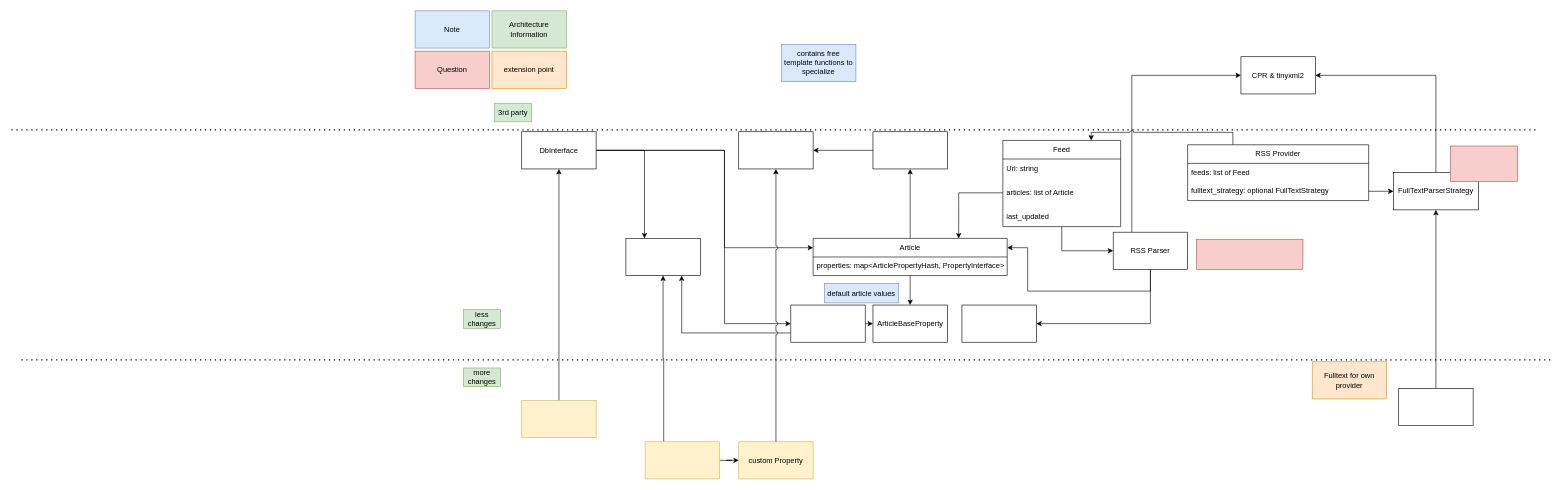
Image size: 1564x490. Some labels were removed from this diagram. Here are the shapes that lost their labels. From the top down, the centre of each, then its label:
At (x=775, y=150): "PropertyInterface".
At (x=909, y=150): "ArticlePropertyHash".
At (x=1483, y=163): "currently only a single function - no reason for class".
At (x=662, y=257): "free sanitize functions".
At (x=1249, y=254): "maybe use Strategy for backwards comp to RSS 1.0".
At (x=827, y=323): "ArticleBaseProperty <DB Impl>".
At (x=998, y=323): "DateProperty".
At (x=558, y=419): "custom DB Instance Impl. e.g. SQLite".
At (x=1435, y=407): "NtvFulltextParser".
At (x=682, y=460): "optional DB extension".
